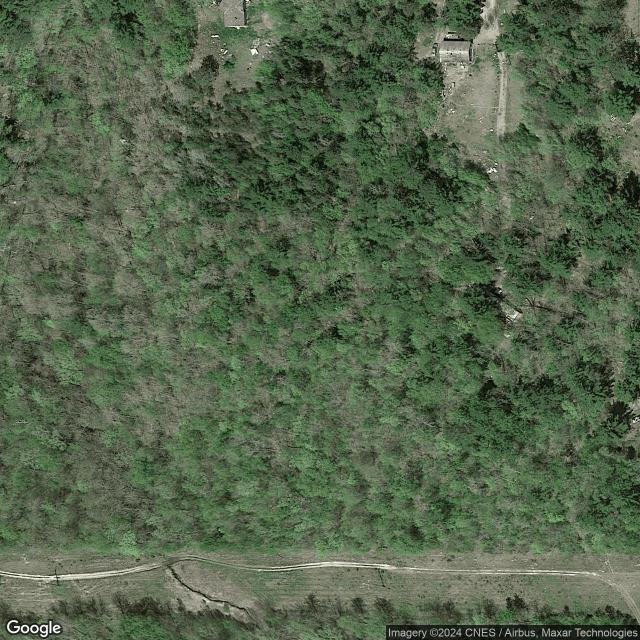Propane: (210, 34, 219, 38)
